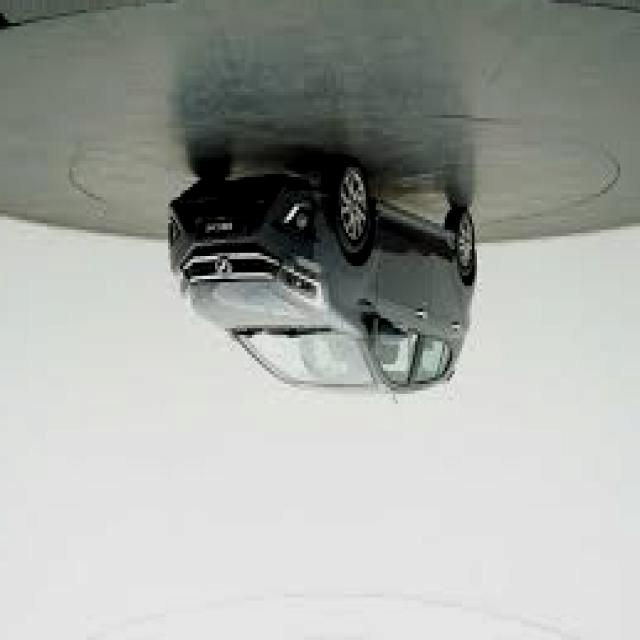PeroduaAxia: (168, 158, 479, 404)
